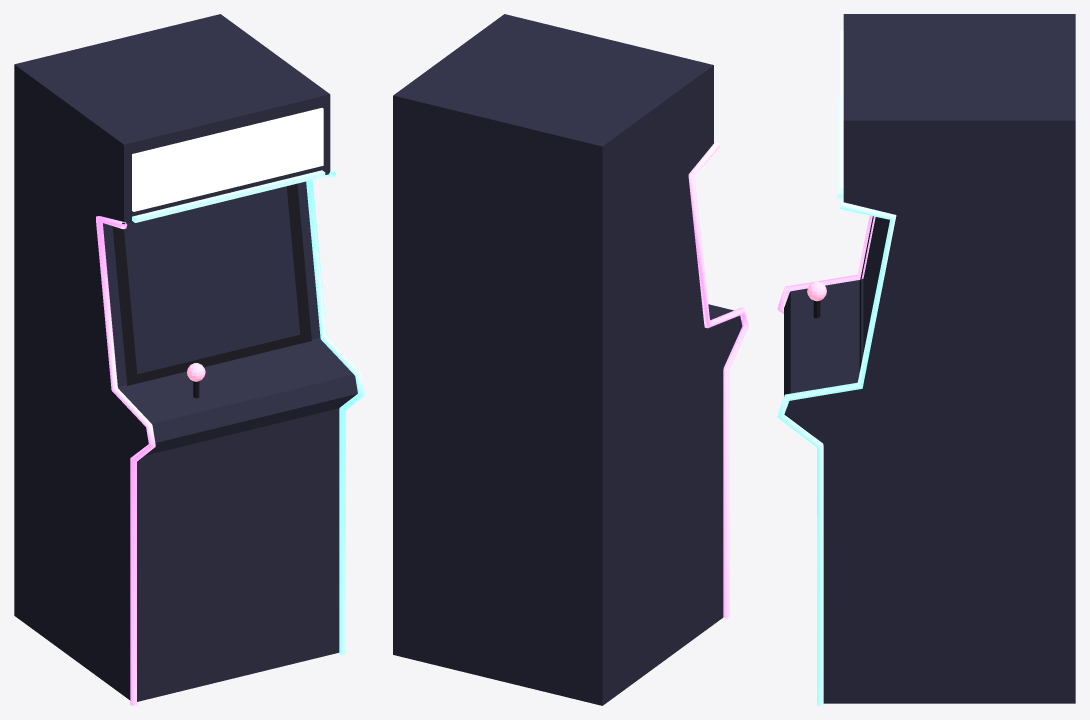
Rendered from arcade_cabinet.glb.
3 views of the same model, side by side, from view 1: azimuth 30°, elevation 25°; view 2: azimuth 150°, elevation 25°; view 3: azimuth 270°, elevation 25° (orthographic). The views are drawn at different scales.
Parts seen in each view (by area): view 1: Body, Side-1, Marquee, Bezel, Side1, SideNeon-1.001, SideNeon1.001, MarqueeStrip; view 2: Body, Side-1, Side1, SideNeon-1.001; view 3: Side1, Body, SideNeon1.001, SideNeon-1.001, Side-1, Marquee, Bezel.
Boxes of the visible parts, <box> form: Body: <box>20,15,352,701</box>; Side-1: <box>14,63,157,701</box>; Marquee: <box>132,108,323,211</box>; Bezel: <box>112,183,311,385</box>; Side1: <box>215,14,357,653</box>; SideNeon-1.001: <box>96,216,155,705</box>; SideNeon1.001: <box>306,170,364,654</box>; MarqueeStrip: <box>132,170,325,222</box>; Body: <box>398,15,733,704</box>; Side-1: <box>597,64,742,705</box>; Side1: <box>393,14,509,655</box>; SideNeon-1.001: <box>688,142,748,618</box>; Side1: <box>784,117,1075,703</box>; Body: <box>784,16,1075,396</box>; SideNeon1.001: <box>777,201,896,705</box>; SideNeon-1.001: <box>777,215,874,514</box>; Side-1: <box>784,14,1075,310</box>; Marquee: <box>840,30,843,188</box>; Bezel: <box>859,216,889,371</box>.
Bounding box in the file's own units: 0.794 × 1.94 × 0.9.
